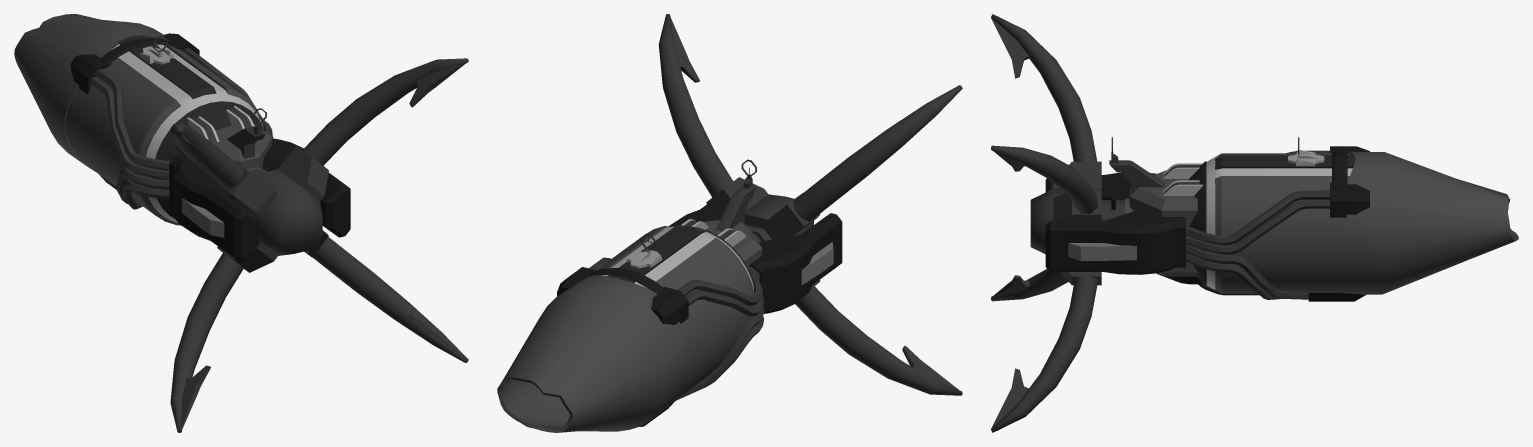
The model's file is GrapplingHook.fbx.
The picture shows the model from 3 angles, left to right: view 1: azimuth 30°, elevation 25°; view 2: azimuth 150°, elevation 25°; view 3: azimuth 270°, elevation 25°; orthographic projection. The views are drawn at different scales.
Parts seen in each view (by area): view 1: Grapple, Hook; view 2: Grapple, Hook; view 3: Grapple, Hook.
Part boxes in pixels (x1,y1,x2,y2): Grapple: (14,14,350,261); Hook: (170,58,468,432); Grapple: (497,159,842,432); Hook: (658,14,962,395); Grapple: (1045,137,1518,301); Hook: (991,14,1124,432).
Size of the model in its own units: 0.5011 by 0.5011 by 0.8363.
